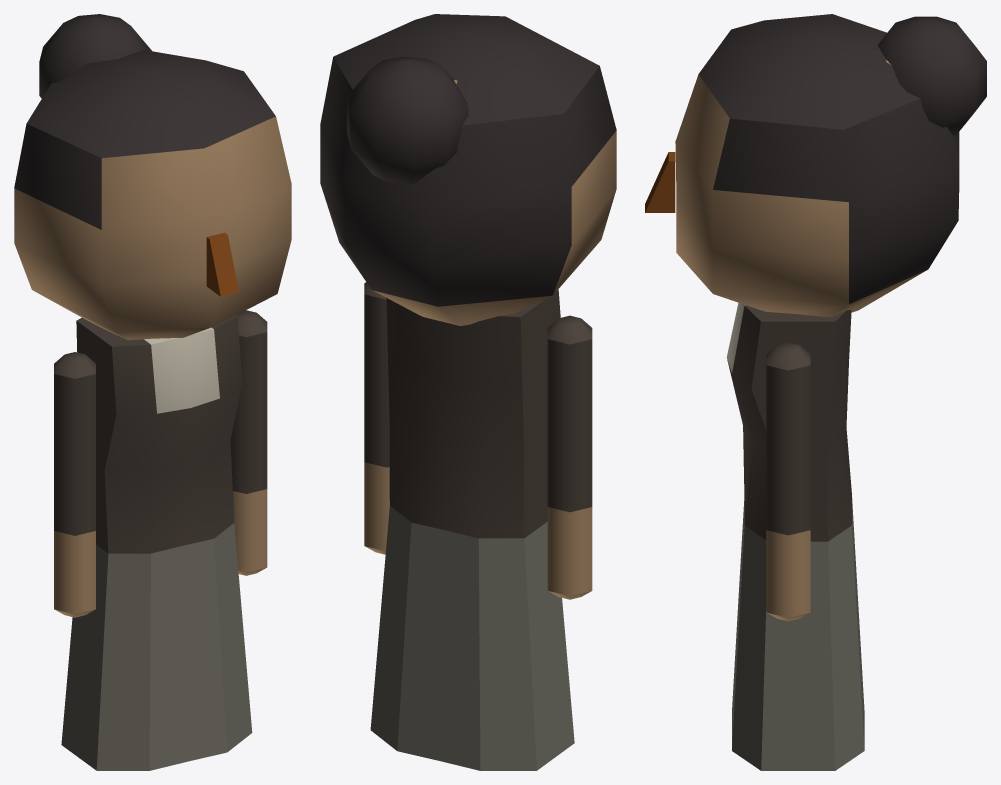
File: Villager_6.FBX
3 renders of one model, left to right at view 1: azimuth 30°, elevation 25°; view 2: azimuth 150°, elevation 25°; view 3: azimuth 270°, elevation 25°, orthographic. The views are drawn at different scales.
Visible parts, largest first — view 1: Box046; view 2: Box046; view 3: Box046.
Part boxes in pixels (x1,y1,x2,y2): Box046: (14, 14, 291, 770); Box046: (320, 14, 616, 770); Box046: (645, 14, 986, 770).
Size of the model in its own units: 29.27 by 80.1 by 34.93.
